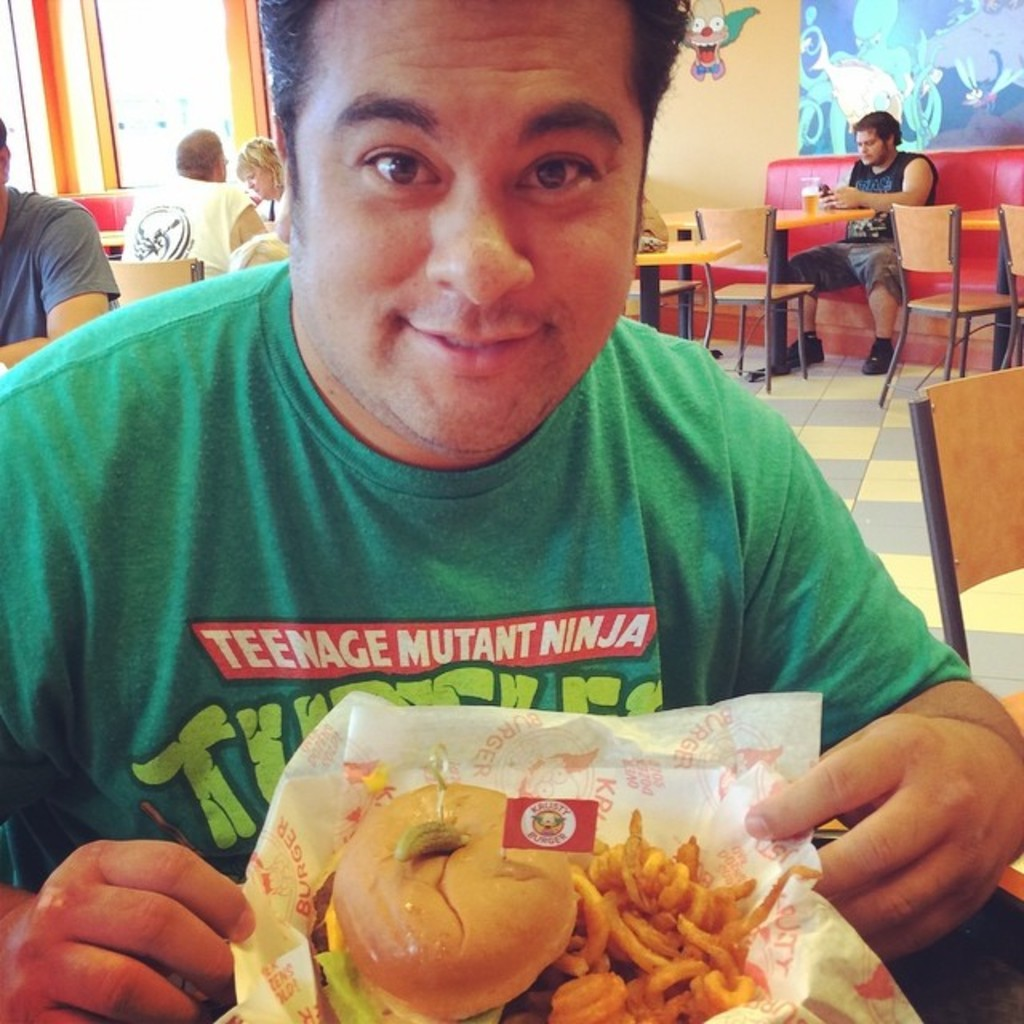Hamburger: (312, 780, 582, 1022)
